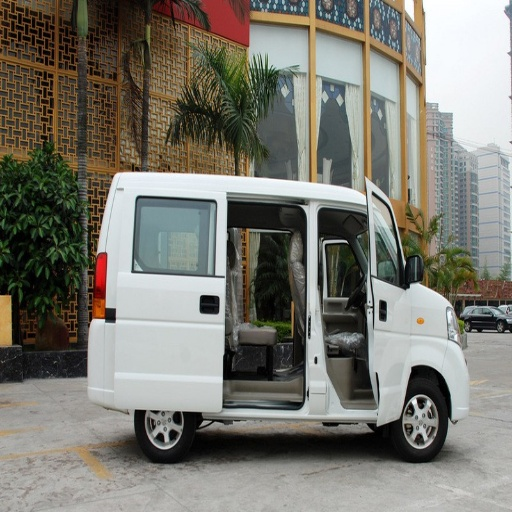trunk: (111, 291, 225, 409)
